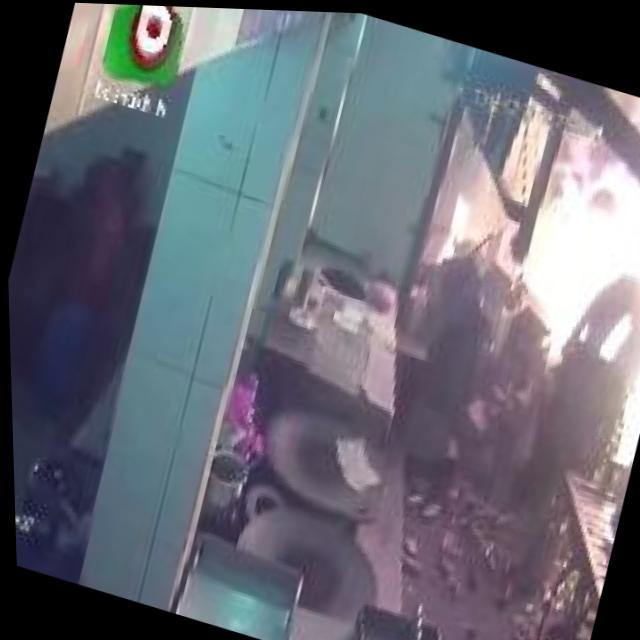fire: (459, 66, 640, 463)
